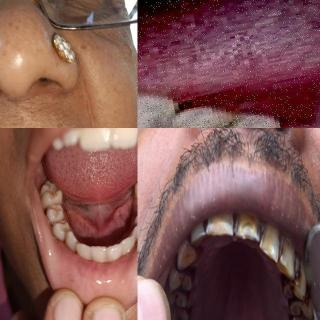cavities: (181, 109, 259, 128)
stains: (282, 252, 304, 300), (286, 292, 312, 316), (177, 267, 194, 293), (256, 220, 272, 246), (276, 232, 289, 264), (173, 291, 193, 311), (184, 242, 202, 264), (227, 212, 243, 236), (196, 217, 212, 239), (168, 308, 190, 320), (286, 312, 314, 320)
